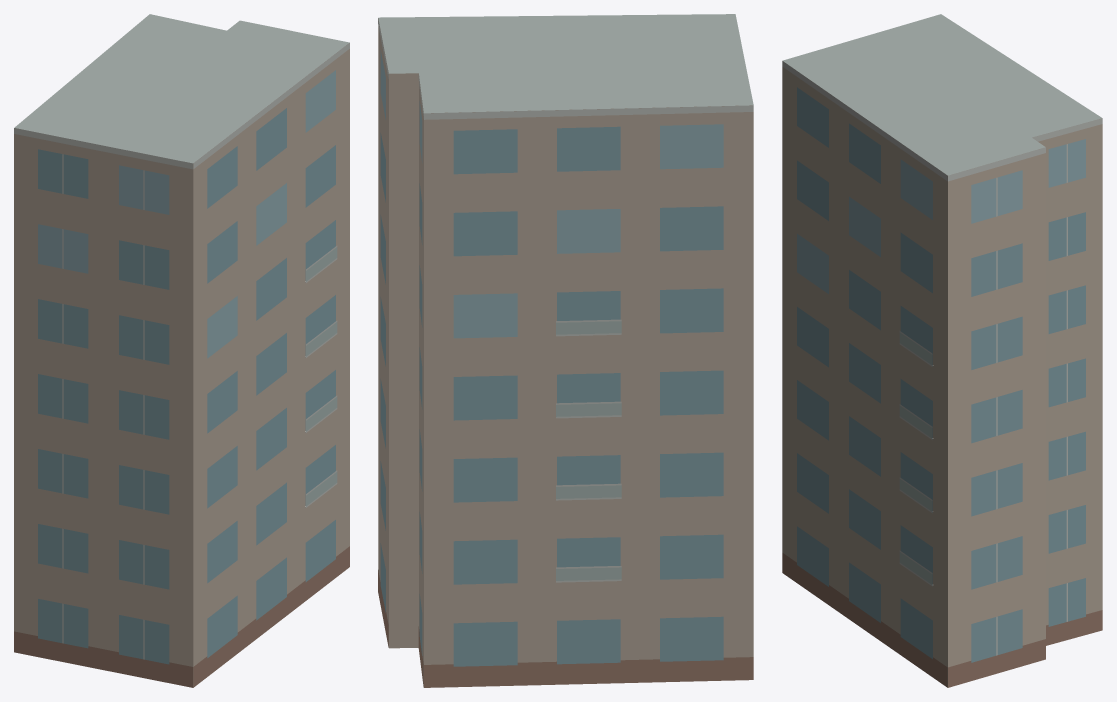
File: survey-upis-32774611.glb
The picture shows the model from 3 angles, left to right: view 1: azimuth 30°, elevation 25°; view 2: azimuth 150°, elevation 25°; view 3: azimuth 270°, elevation 25°; orthographic projection. The views are drawn at different scales.
Parts seen in each view (by area): view 1: survey-upis-32774611.tmp; view 2: survey-upis-32774611.tmp; view 3: survey-upis-32774611.tmp.
Part boxes in pixels (bbox=[...]): survey-upis-32774611.tmp: bbox=[14, 14, 349, 687]; survey-upis-32774611.tmp: bbox=[378, 14, 753, 687]; survey-upis-32774611.tmp: bbox=[782, 14, 1102, 687].
Bounding box in the file's own units: 14.46 × 21.35 × 12.11.
